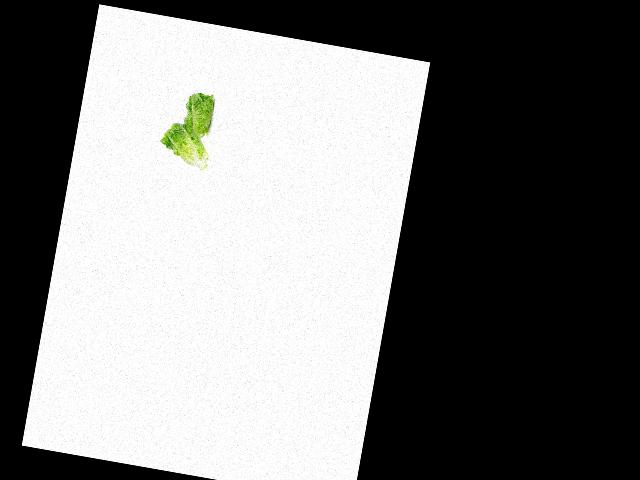lettuce: (158, 115, 218, 172)
